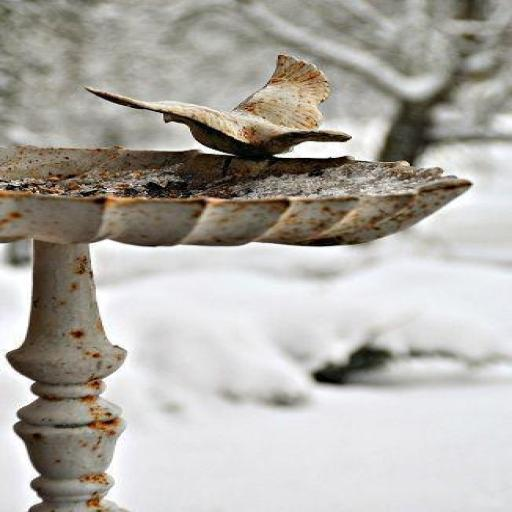corrosion: (5, 163, 461, 207), (299, 171, 425, 271), (89, 411, 122, 433), (81, 330, 102, 361), (78, 469, 111, 485)
